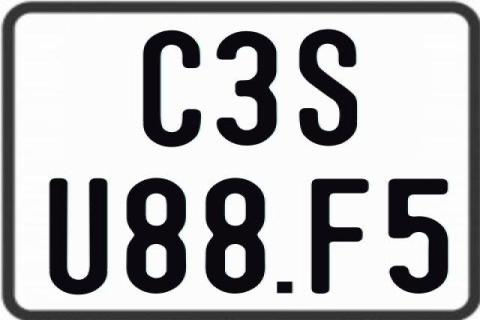0: (125, 175, 190, 295), (215, 31, 279, 149), (388, 177, 452, 293), (203, 177, 263, 296)
C: (141, 30, 199, 148)
F: (310, 177, 368, 292)
S: (298, 28, 362, 146)
U: (47, 177, 106, 293)
